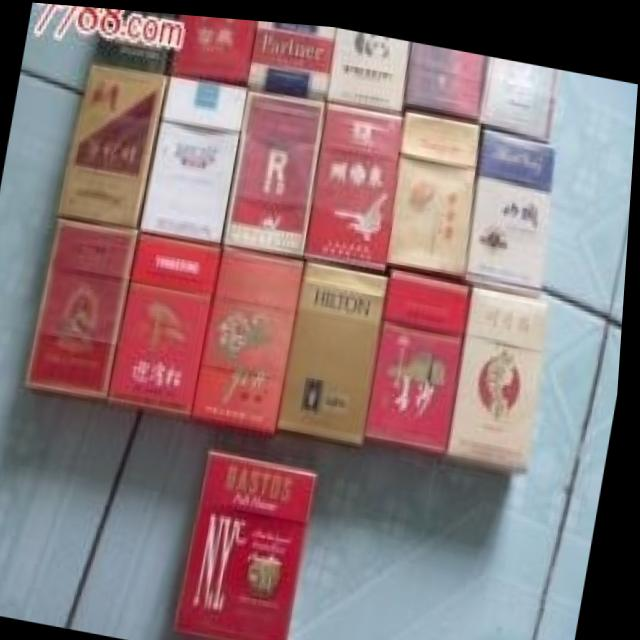box: (179, 446, 325, 640), (193, 242, 309, 428), (111, 230, 227, 410), (29, 217, 143, 396), (282, 256, 391, 440), (451, 275, 552, 463), (370, 264, 474, 445), (141, 70, 248, 242), (60, 60, 170, 224), (225, 83, 327, 253), (307, 97, 404, 267), (388, 104, 482, 274), (466, 120, 559, 287), (248, 16, 335, 97), (480, 47, 560, 135), (404, 34, 488, 117), (327, 21, 411, 104), (170, 11, 256, 83), (92, 7, 179, 70)
